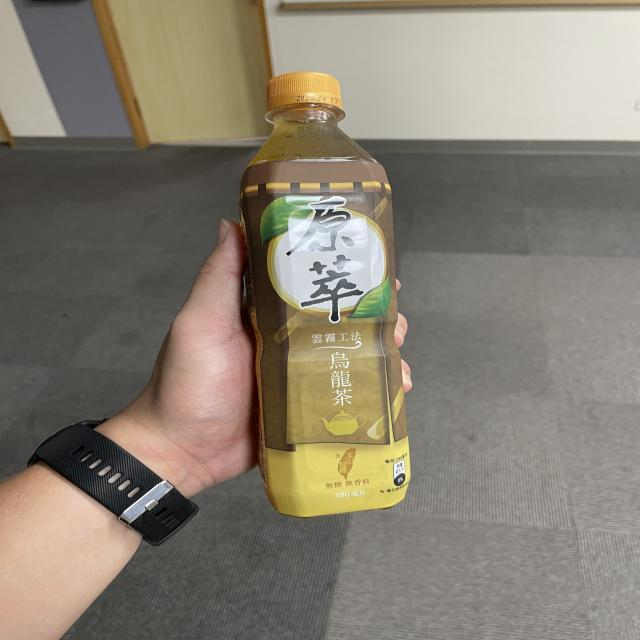RiYue_BlackTea: (216, 62, 428, 527)
